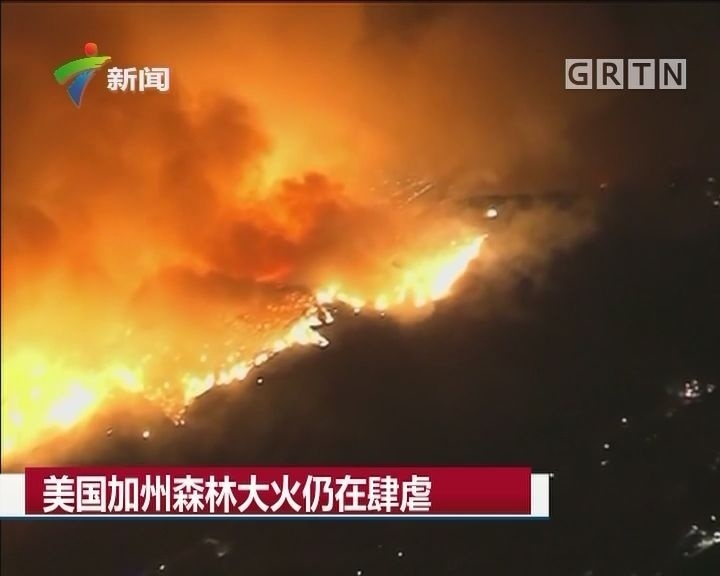fire: (259, 224, 489, 347)
